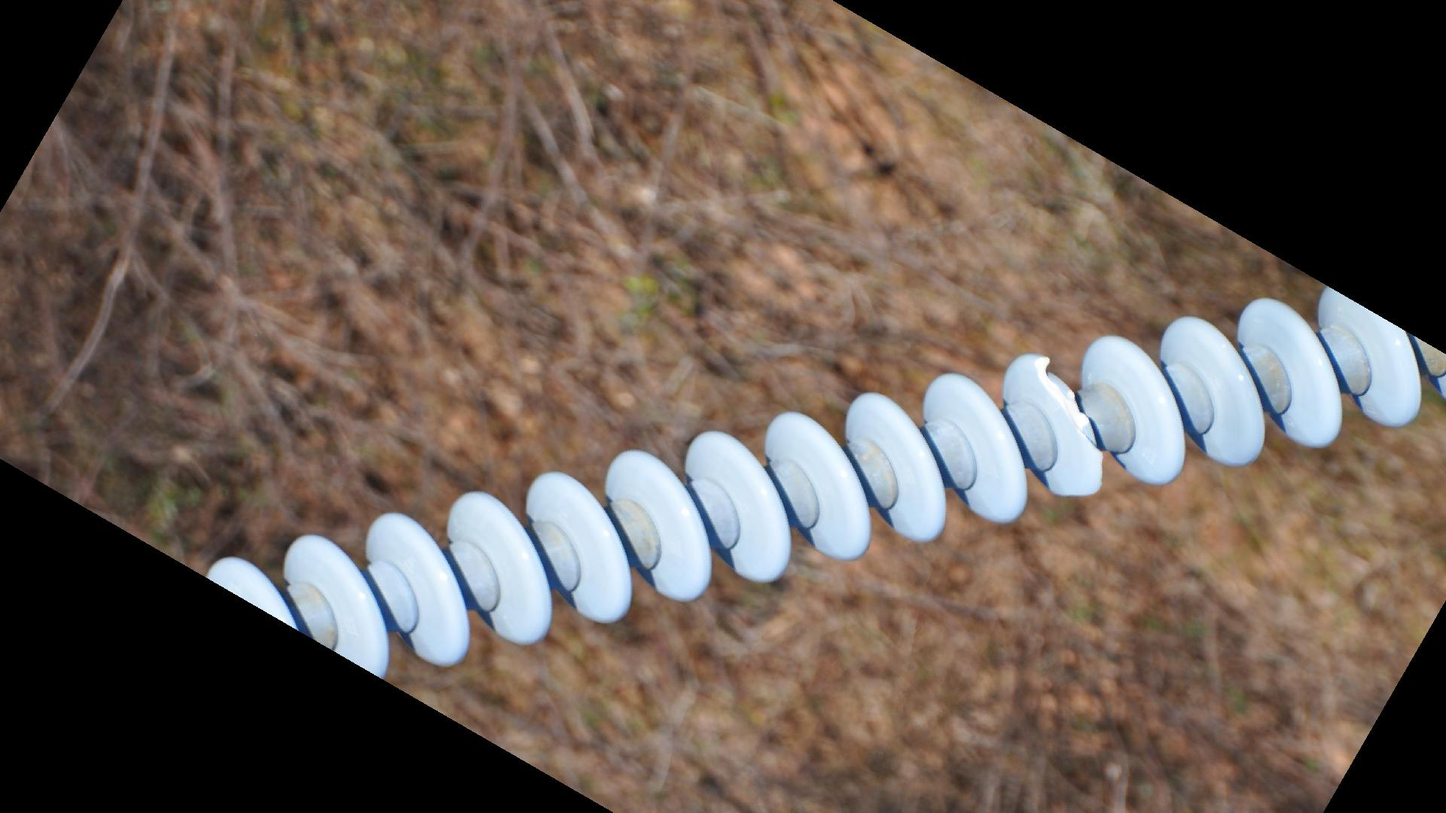insulator: (200, 278, 1430, 690)
insulator_breakage: (1030, 349, 1112, 501)
